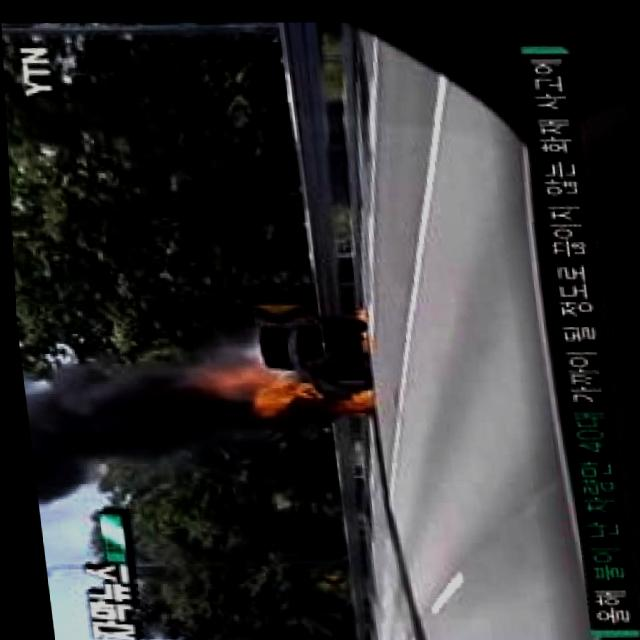helmet: (228, 358, 307, 411), (335, 384, 370, 409)
no_helmet: (13, 316, 237, 521)
